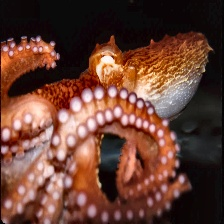octopus: (3, 79, 188, 223)
